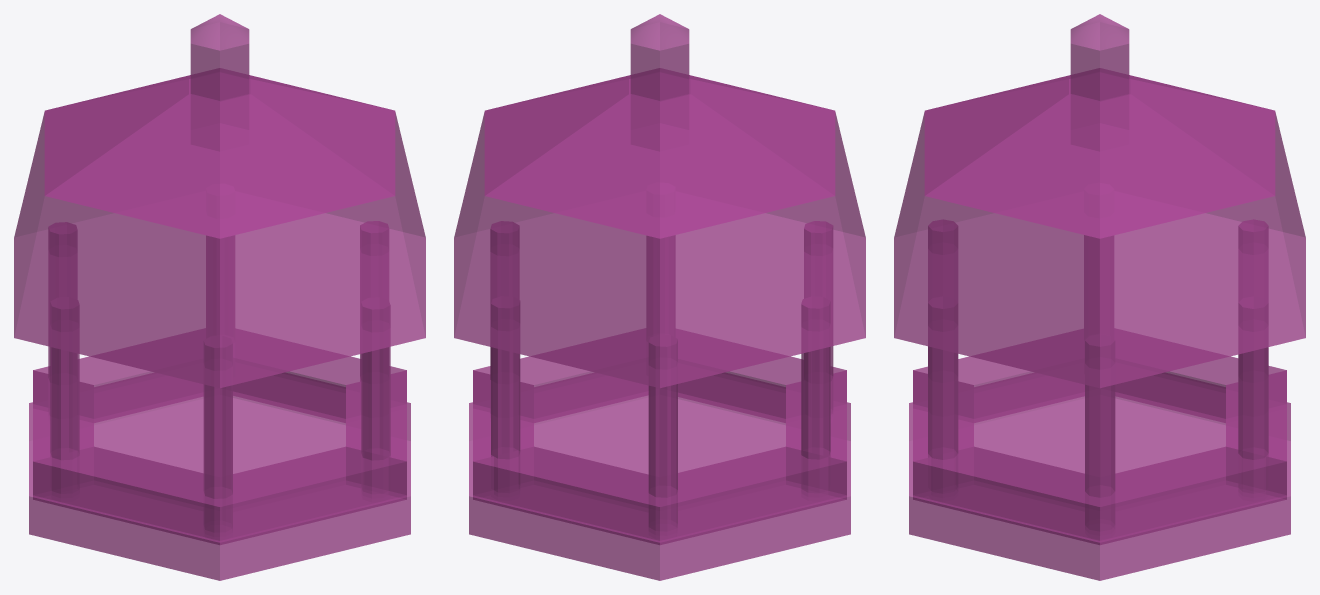
The model's file is SM_Bld_Pagola_01_Collision_01.fbx.
The picture shows the model from 3 angles, left to right: view 1: azimuth 30°, elevation 25°; view 2: azimuth 150°, elevation 25°; view 3: azimuth 270°, elevation 25°; orthographic projection.
Parts seen in each view (by area): view 1: SM_Bld_Pagola_01_Collision_01; view 2: SM_Bld_Pagola_01_Collision_01; view 3: SM_Bld_Pagola_01_Collision_01.
Part boxes in pixels (<box>): SM_Bld_Pagola_01_Collision_01: <box>14,14,425,580</box>; SM_Bld_Pagola_01_Collision_01: <box>454,14,865,580</box>; SM_Bld_Pagola_01_Collision_01: <box>894,14,1305,580</box>.
Size of the model in its own units: 642 by 706 by 556.
